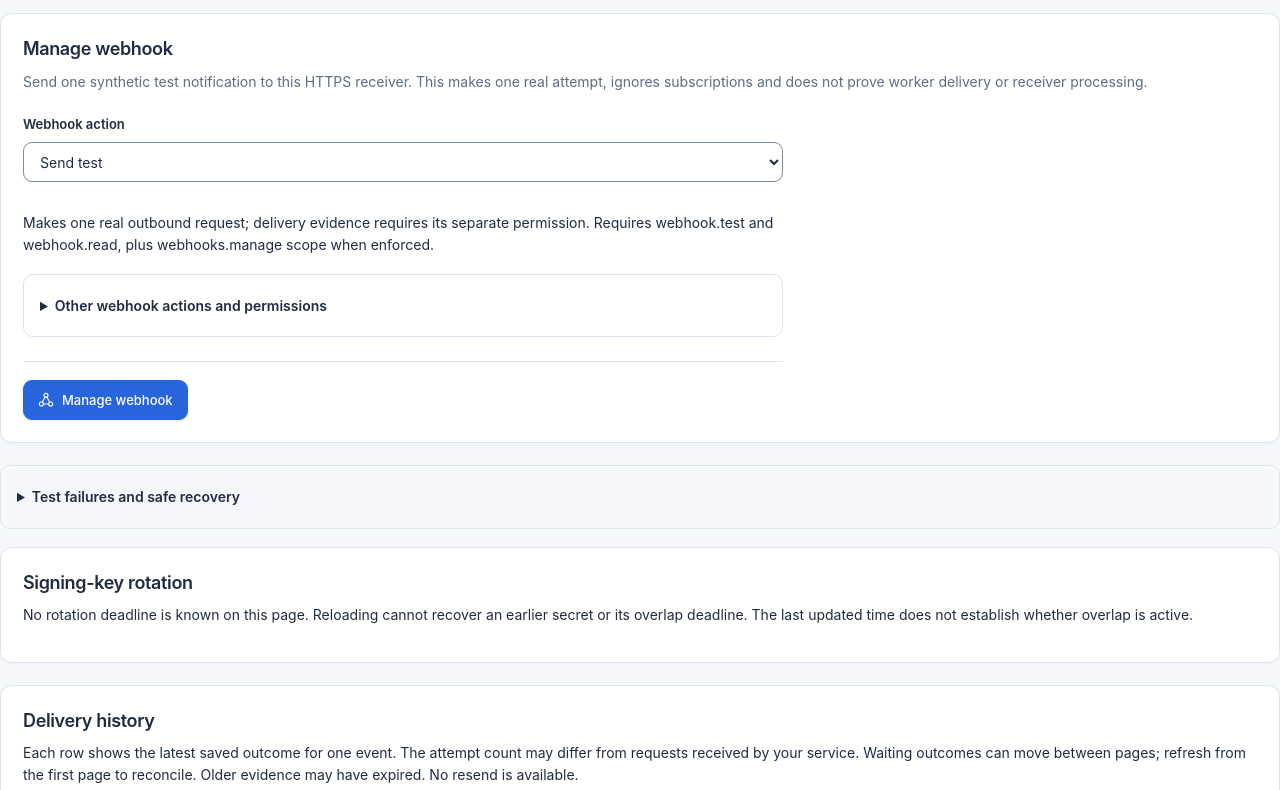
reports a synthetic receiver test that succeeded
The width and height of the screenshot is (1280, 790).
(page scrolled)
Check: the dropdown labelled "Webhook action" is shown, box [23,142,783,182]
What coordinates should you click on to do the following:
click the button "Manage webhook"
I would click on:
 (105, 400)
Its box is [23,380,188,420].
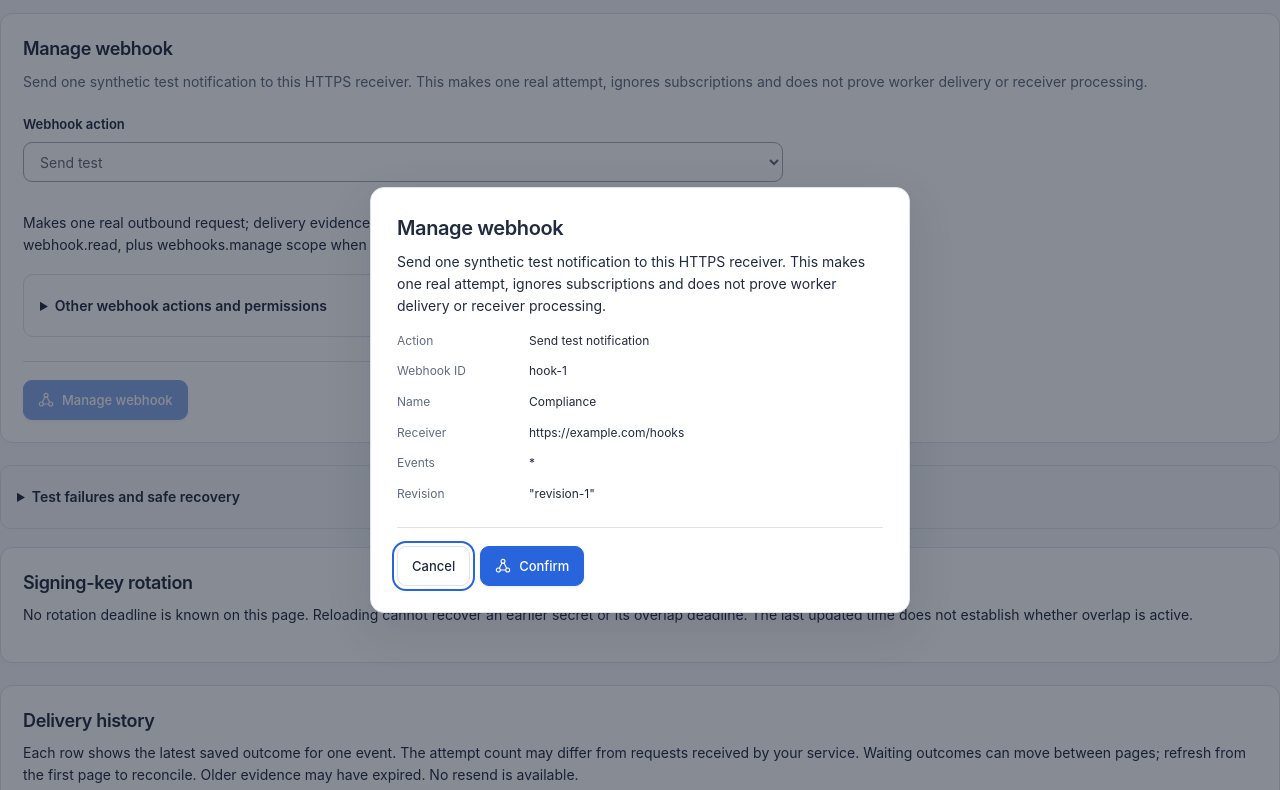
What coordinates should you click on to do the following:
click the button "Confirm"
I would click on:
 (532, 566)
Its box is [480,546,584,586].
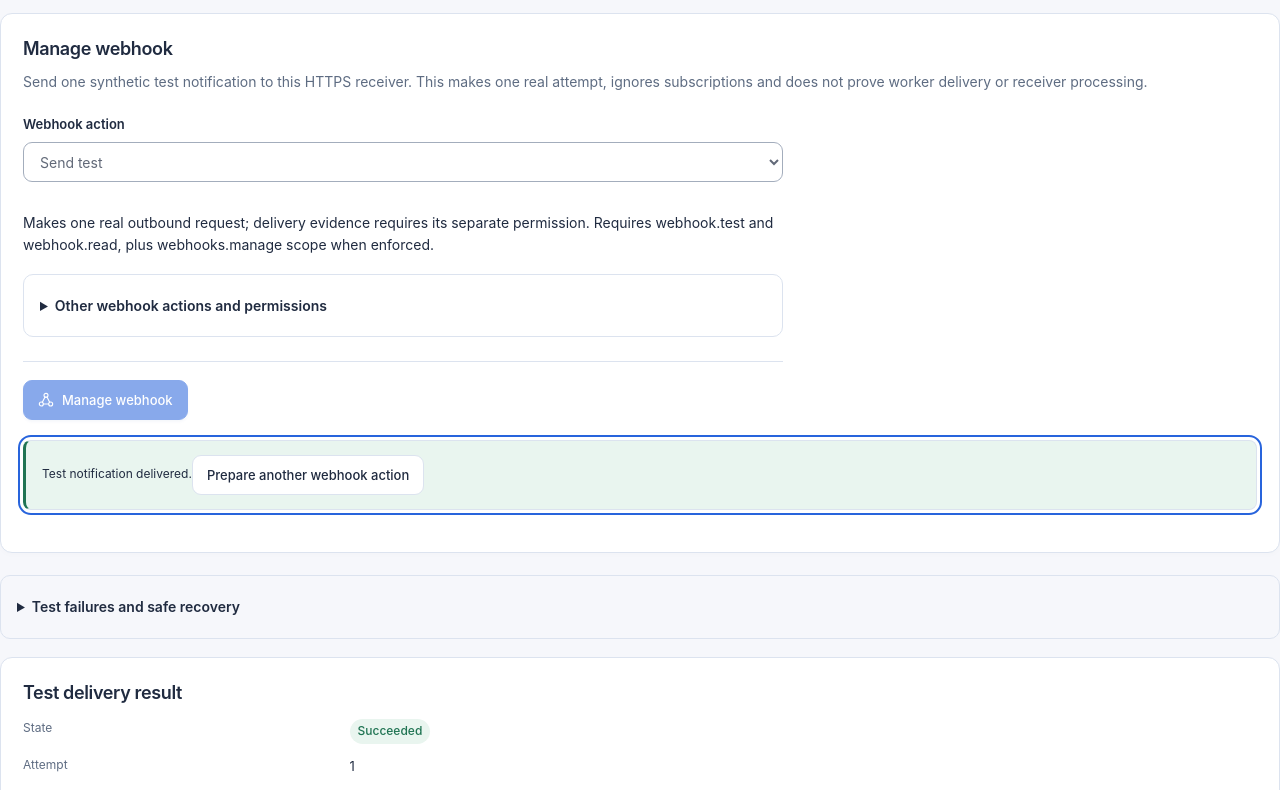
Check: the text "Test notification delivered. Prepare another webhook action" is shown, box [23,440,1257,510]
